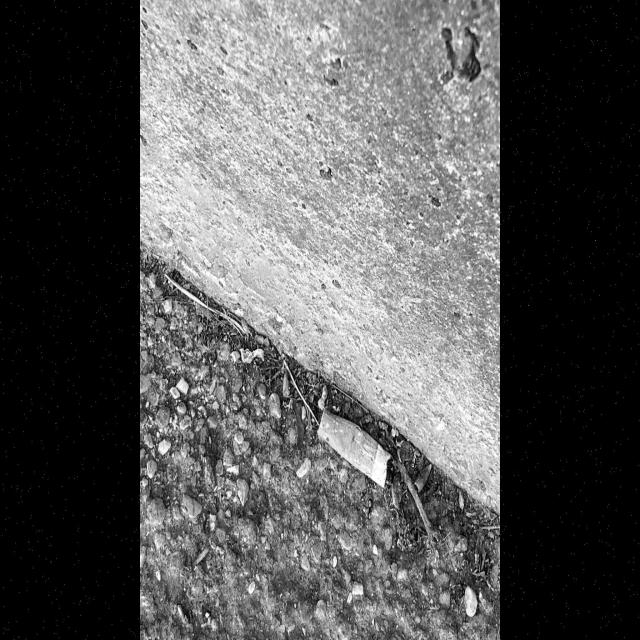other waste: (316, 406, 398, 490)
